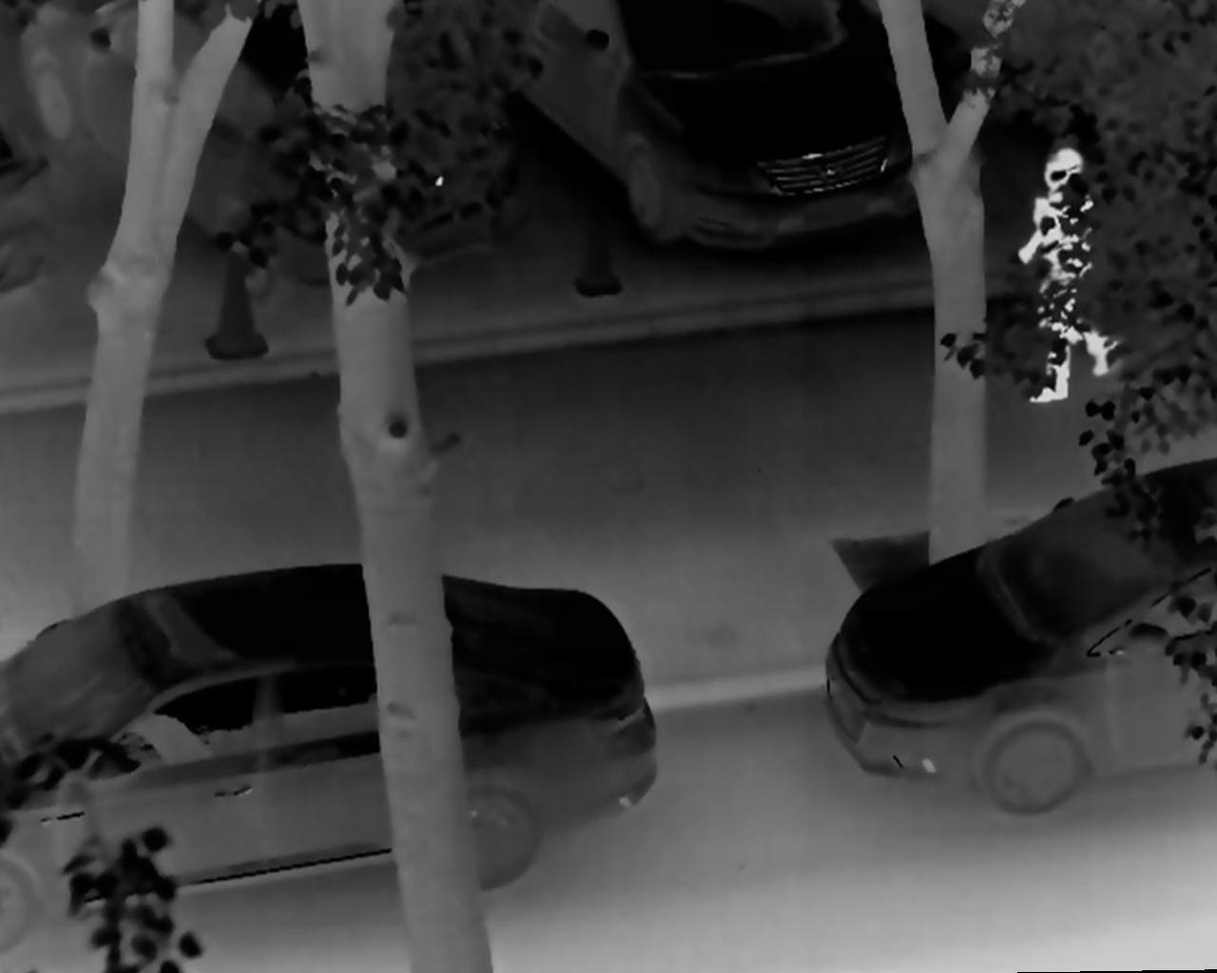person: (1000, 141, 1127, 408)
